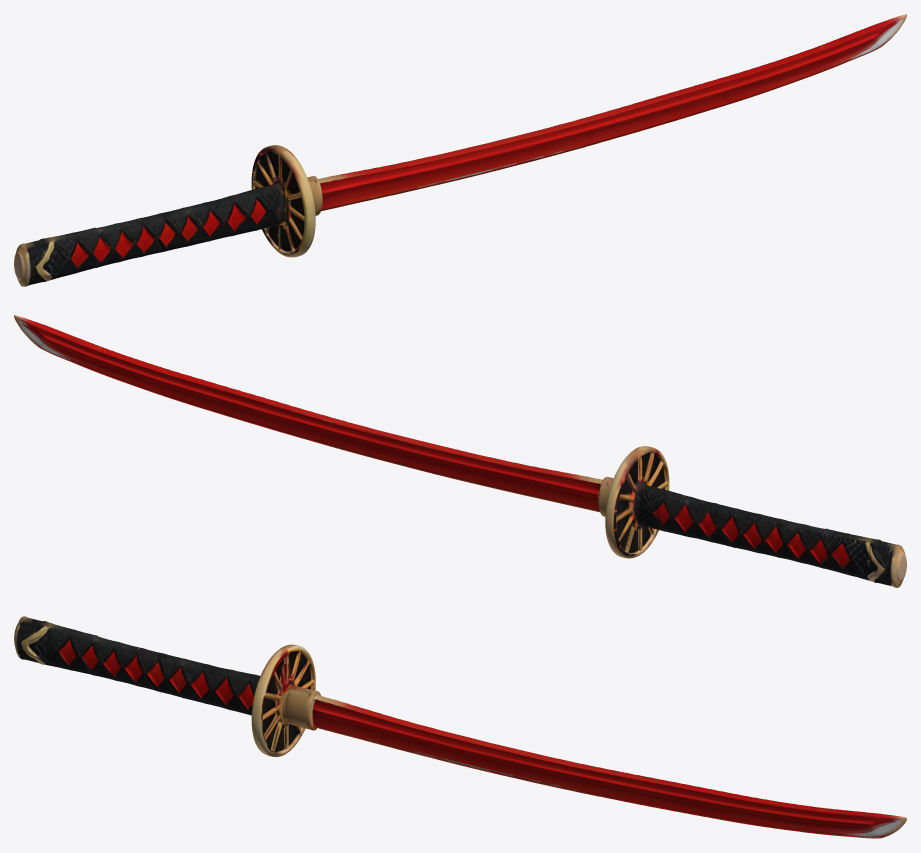
The model's file is YoriichiKatana.fbx.
3 renders of one model, top to bottom at view 1: azimuth 30°, elevation 25°; view 2: azimuth 150°, elevation 25°; view 3: azimuth 330°, elevation 25°, orthographic.
Visible parts, largest first — view 1: node_0; view 2: node_0; view 3: node_0.
Part boxes in pixels (x1,y1,x2,y2): node_0: (14, 14, 906, 286); node_0: (14, 315, 906, 587); node_0: (14, 616, 906, 838).
Size of the model in its own units: 120 by 13.36 by 13.23.
Materials: 1 (1 with a texture image).
